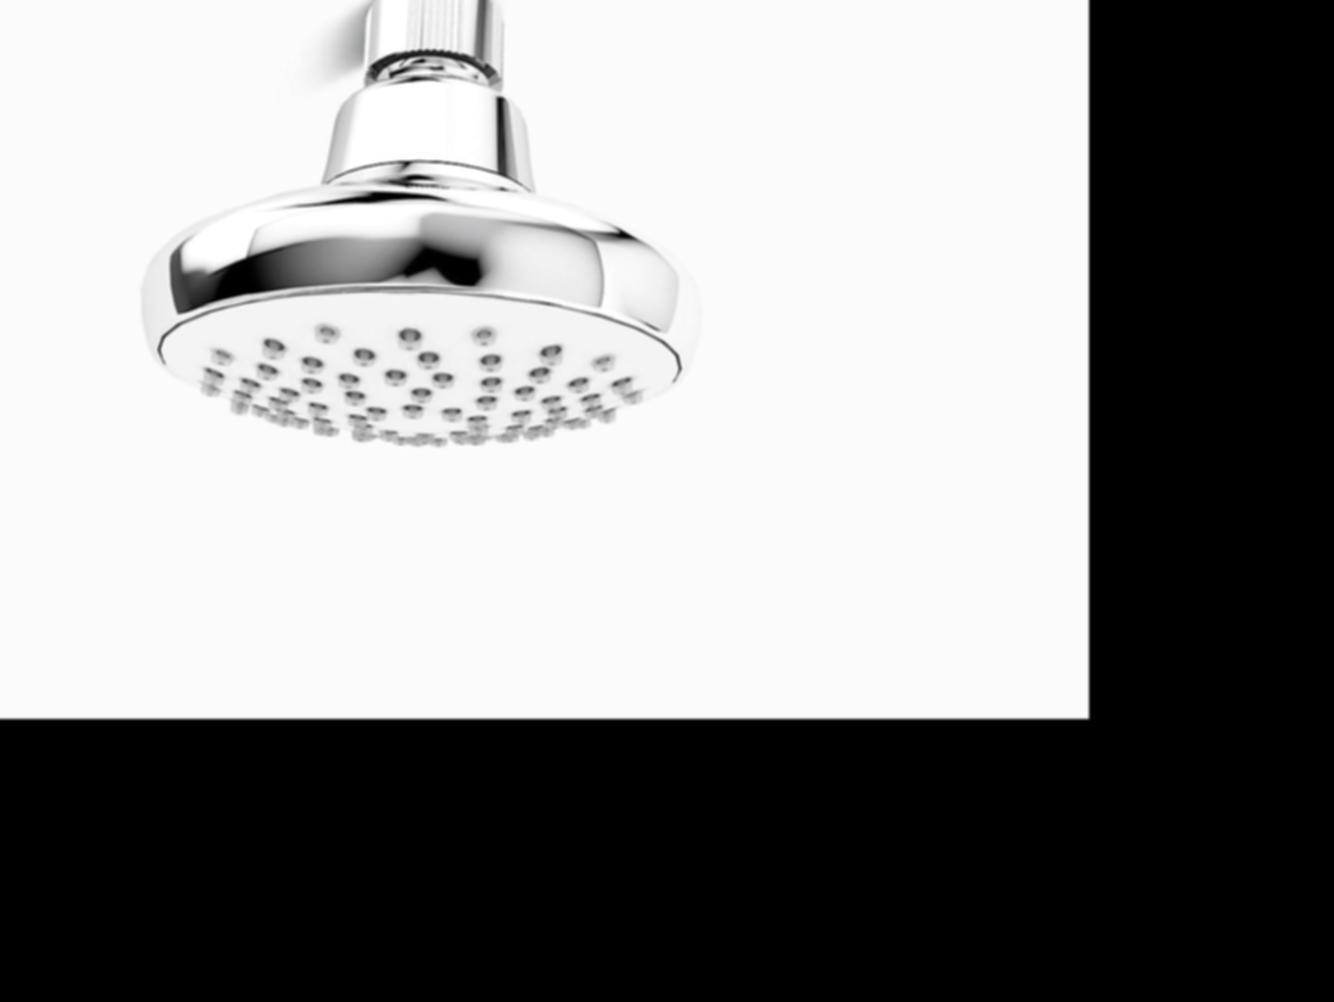Ducha: (112, 0, 702, 458)
